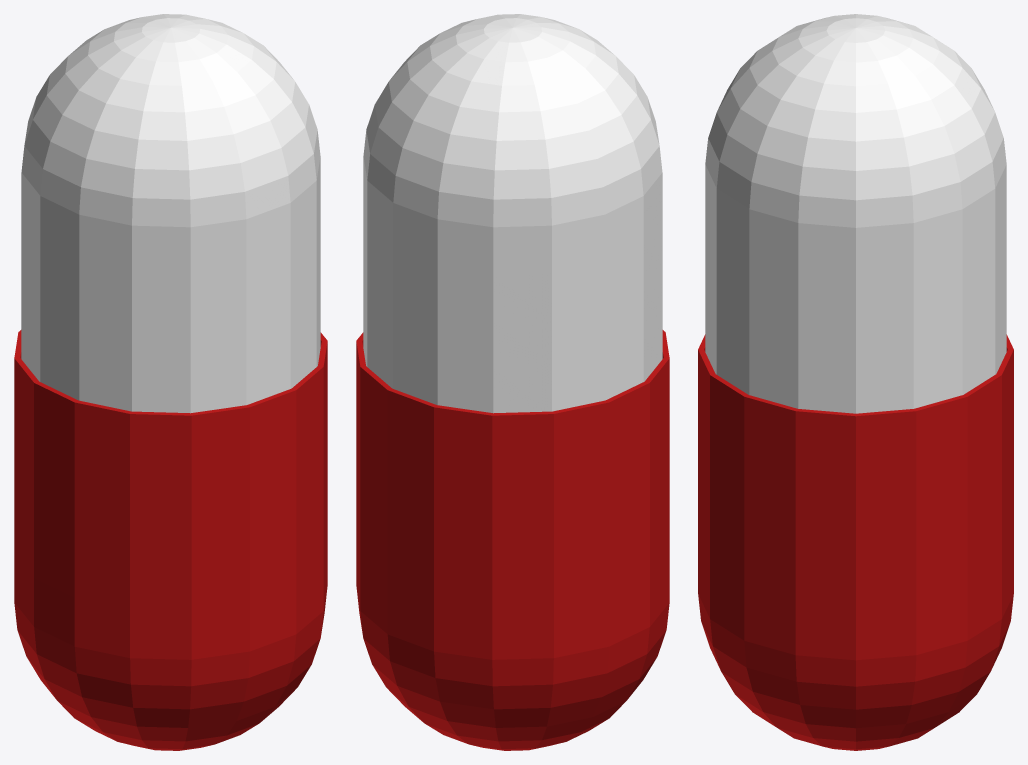
The model's file is Pill.fbx.
3 views of the same model, side by side, from view 1: azimuth 30°, elevation 25°; view 2: azimuth 150°, elevation 25°; view 3: azimuth 270°, elevation 25° (orthographic).
Visible parts, largest first — view 1: Pill, Pill_2; view 2: Pill, Pill_2; view 3: Pill, Pill_2.
Part boxes in pixels (box(x1,y1,x2,y2)): Pill: box(21, 14, 320, 413); Pill_2: box(14, 330, 327, 750); Pill: box(363, 14, 662, 413); Pill_2: box(356, 330, 669, 750); Pill: box(705, 14, 1006, 413); Pill_2: box(698, 334, 1013, 750).
Size of the model in its own units: 109 by 270 by 109.
